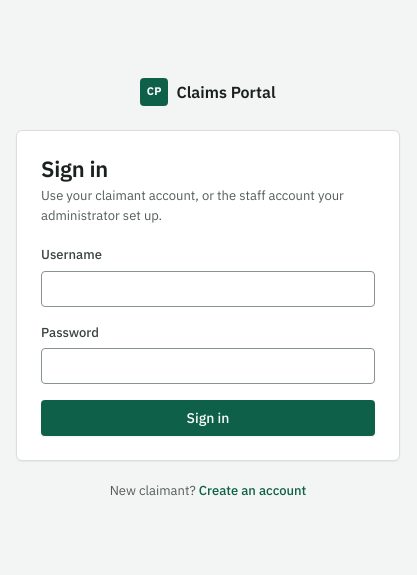
it: LoginPage on a sleeping server › explains the free-tier wake-up while sign-in is still waiting
In the field labelled "Username": (208, 288) x1=41 y1=270 x2=375 y2=306, type "demo-admin"
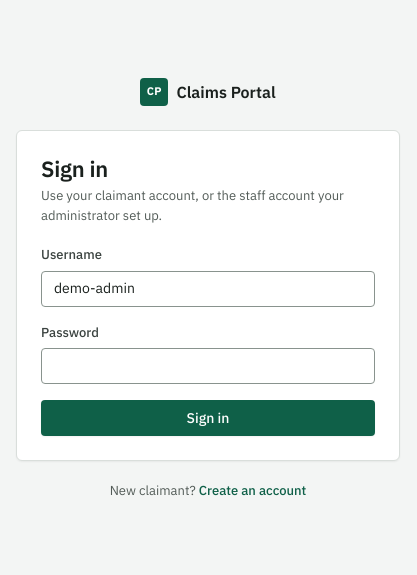
In the password field labelled "Password": (208, 366) x1=41 y1=348 x2=375 y2=384, type "secret-password"
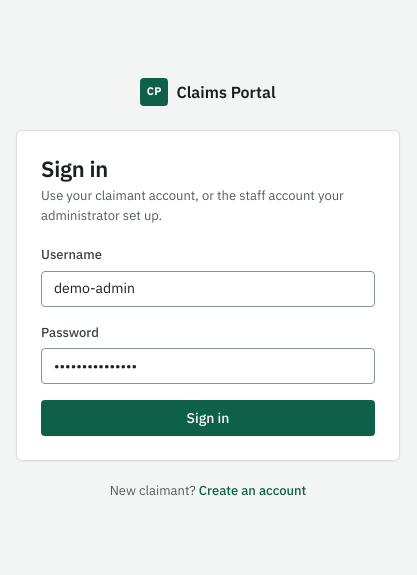
Click the button "Sign in": (208, 418) x1=41 y1=400 x2=375 y2=436
Wait 4001 ms
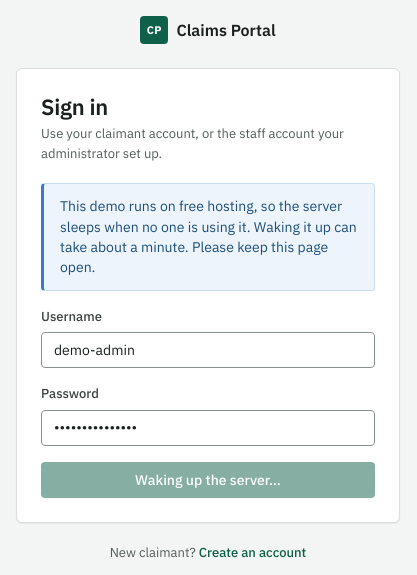
Check: the button named "Signing in…" is disabled, box x1=41 y1=462 x2=375 y2=498
Check: the text "runs on free hosting" is shown, box x1=60 y1=197 x2=357 y2=276
Check: the button "Waking up the server…" is disabled, box x1=41 y1=462 x2=375 y2=498
